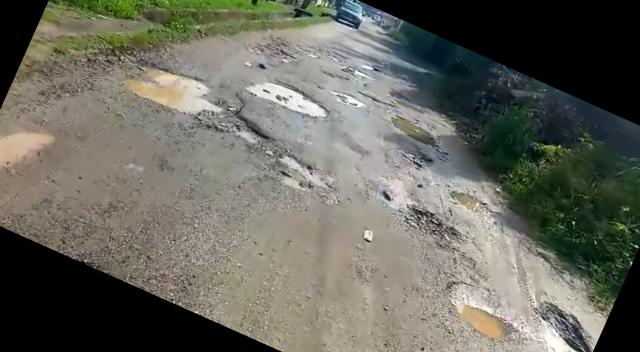pothole: (110, 43, 258, 142), (248, 70, 336, 128), (0, 111, 57, 198), (440, 292, 520, 350), (524, 296, 604, 352), (398, 199, 478, 254), (268, 150, 338, 204), (386, 112, 446, 152), (444, 184, 499, 222), (328, 85, 369, 111)
